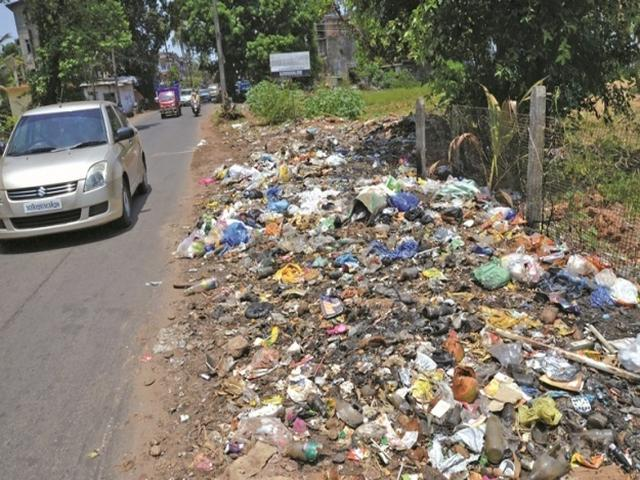garbage: (241, 245, 578, 452), (229, 162, 444, 241)
